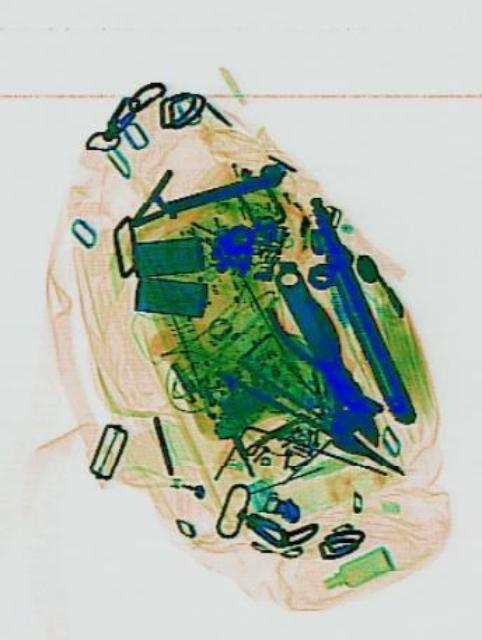Pliers: (212, 344, 404, 486), (258, 270, 375, 424)
Wrench: (258, 252, 383, 468)
